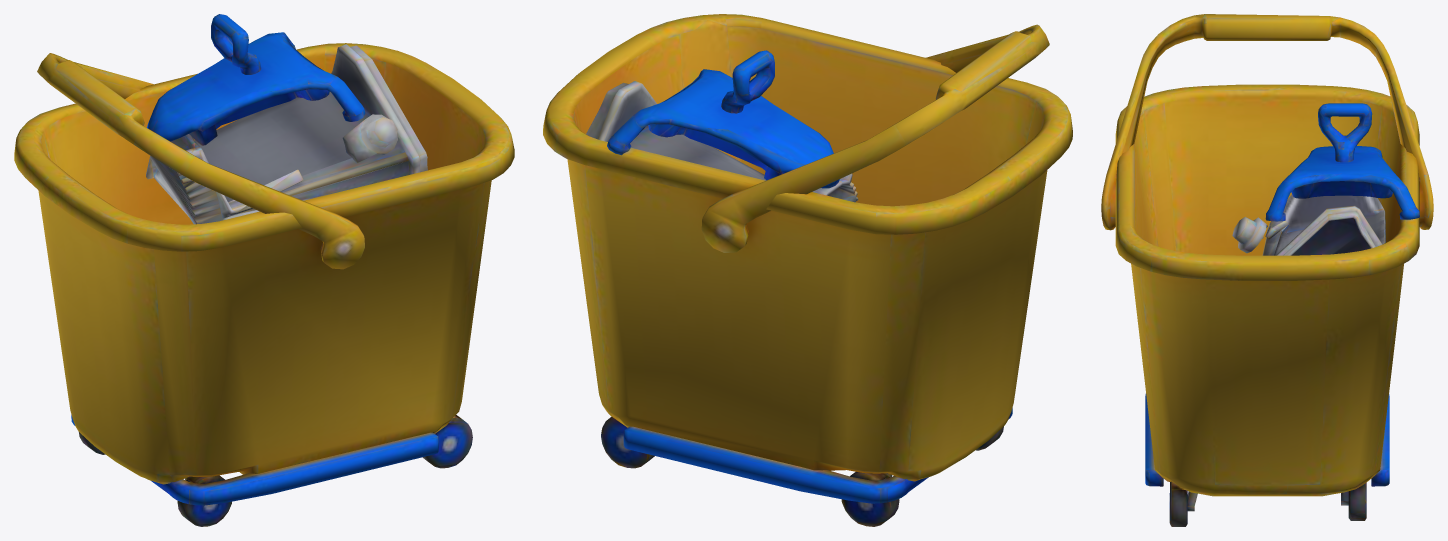
The model's file is mop-bucket.glb.
The picture shows the model from 3 angles, left to right: view 1: azimuth 30°, elevation 25°; view 2: azimuth 150°, elevation 25°; view 3: azimuth 270°, elevation 25°; orthographic projection. The views are drawn at different scales.
Visible parts, largest first — view 1: tripo_node_1309e703-5ec0-441a-a351-fd3532dd9fb7; view 2: tripo_node_1309e703-5ec0-441a-a351-fd3532dd9fb7; view 3: tripo_node_1309e703-5ec0-441a-a351-fd3532dd9fb7.
Boxes of the visible parts, x1,y1,x2,y2 form: tripo_node_1309e703-5ec0-441a-a351-fd3532dd9fb7: [14, 14, 514, 526]; tripo_node_1309e703-5ec0-441a-a351-fd3532dd9fb7: [543, 14, 1072, 526]; tripo_node_1309e703-5ec0-441a-a351-fd3532dd9fb7: [1101, 14, 1433, 526].
Size of the model in its own units: 0.9146 by 0.8813 by 0.7046.
Materials: 1 (1 with a texture image).
